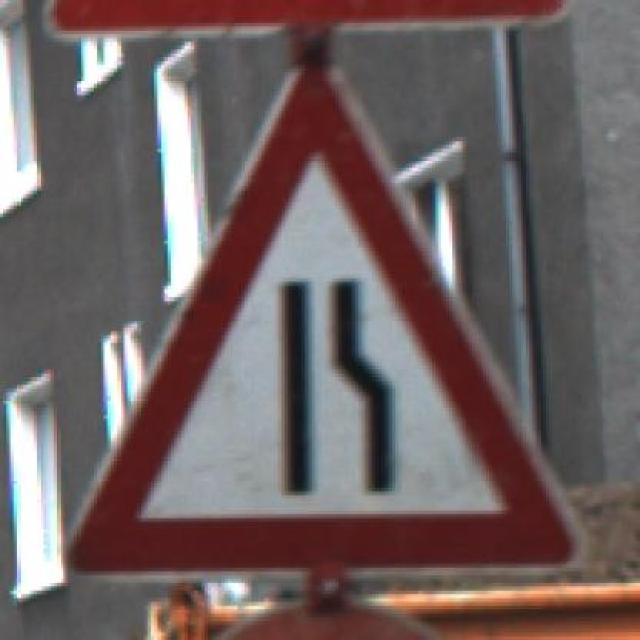-Road narrows on right: (40, 46, 589, 580)
